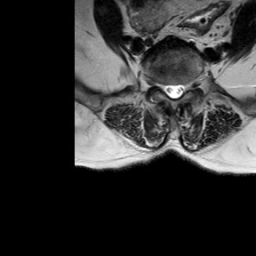CCS_stenosis: (171, 75, 178, 104)
LFS_normal: (185, 75, 193, 97)
LLS_normal: (178, 75, 185, 101)
RFS_stenosis: (155, 72, 163, 96)
RLS_normal: (163, 75, 171, 101)
